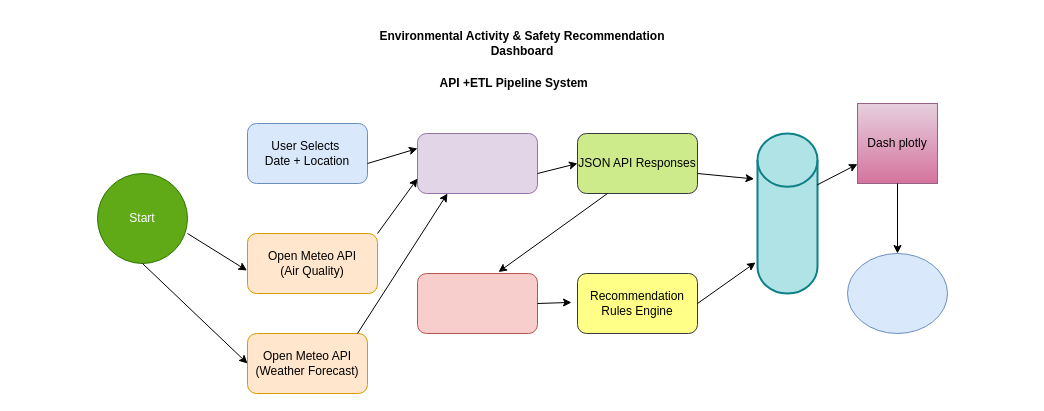
Some shapes in this 1044 by 411 pixel diagram are drawn without their labels. Here are the shapes that lost their labels. From the top down, the box of each, then its label:
(416, 132, 538, 194): Python Requests Get API calls
(756, 132, 818, 294): PostgreSQL
(416, 272, 538, 334): Pandas Cleaning & Transformation
(846, 252, 948, 334): user insights & Alerts
